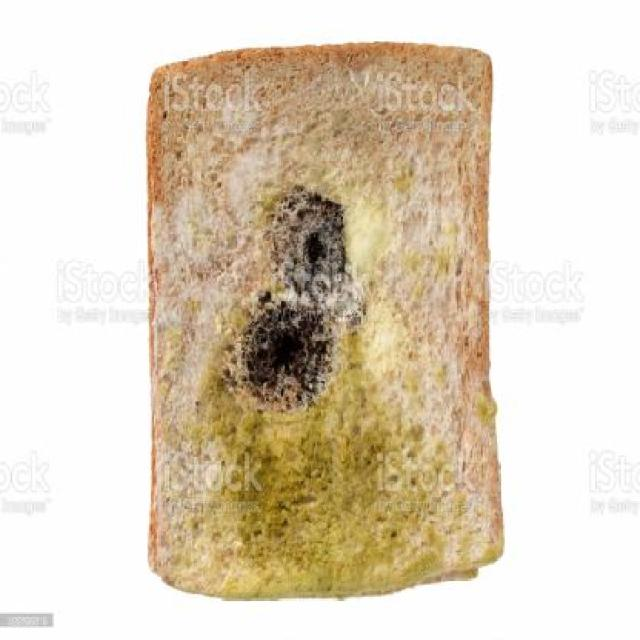mold_bread: (199, 420, 431, 605), (243, 145, 367, 293), (214, 301, 353, 405)
